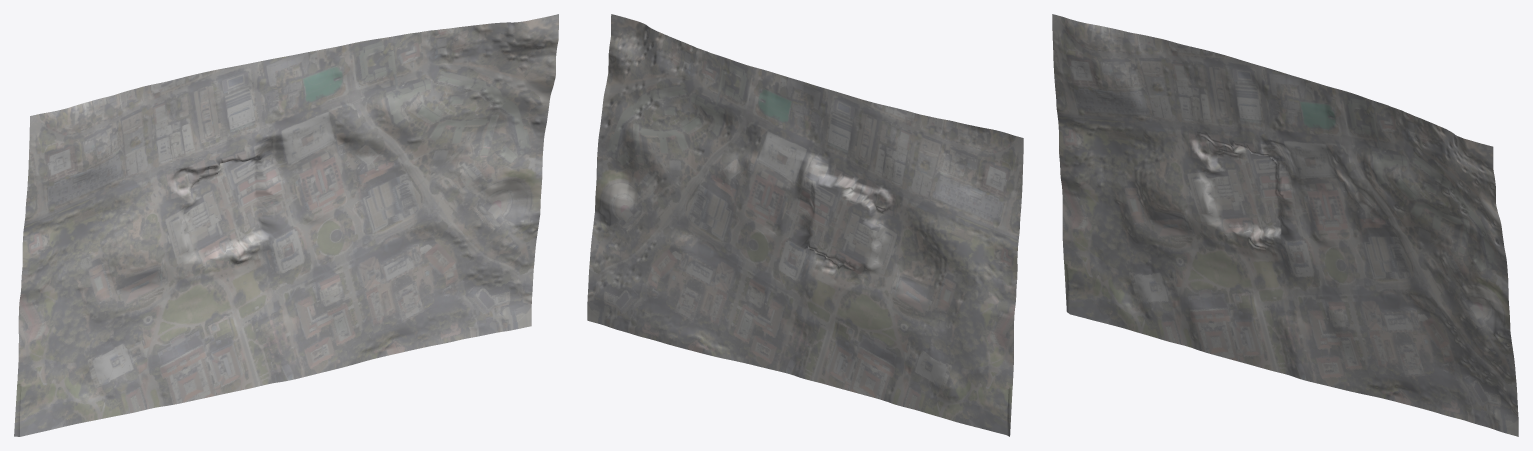
Rendered from Site70-Terrain.obj.
The picture shows the model from 3 angles, left to right: view 1: azimuth 30°, elevation 25°; view 2: azimuth 150°, elevation 25°; view 3: azimuth 330°, elevation 25°; orthographic projection. The views are drawn at different scales.
Size of the model in its own units: 2495 by 1579 by 373.
Materials: 1 (1 with a texture image).
